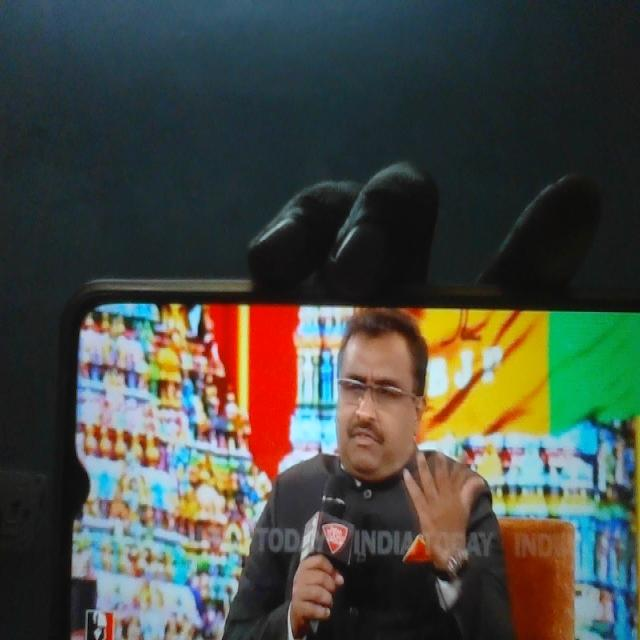fake: (317, 280, 431, 495)
